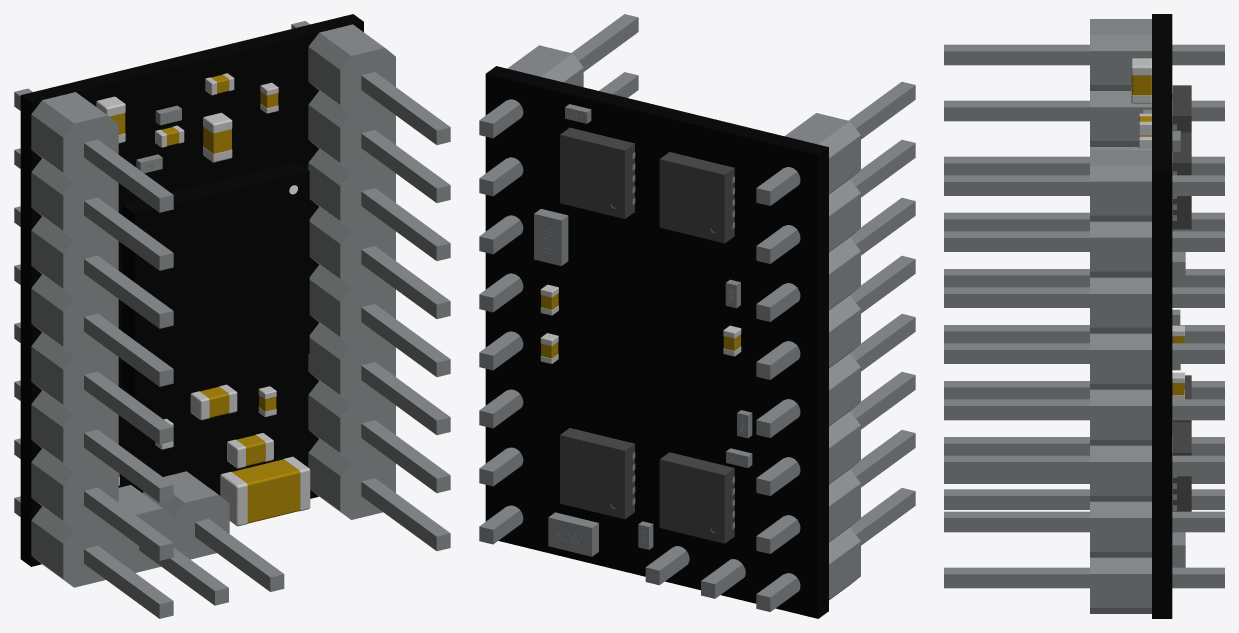
Rendered from tmc5160-pro.glb.
3 renders of one model, left to right at view 1: azimuth 30°, elevation 25°; view 2: azimuth 150°, elevation 25°; view 3: azimuth 270°, elevation 25°, orthographic. The views are drawn at different scales.
Parts seen in each view (by area): view 1: material_1, material_0; view 2: material_0, material_1; view 3: material_1, material_0.
Part boxes in pixels (x1,y1,x2,y2): material_1: [14, 21, 450, 618]; material_0: [20, 14, 363, 566]; material_0: [485, 66, 828, 618]; material_1: [479, 14, 915, 611]; material_1: [944, 19, 1224, 613]; material_0: [1152, 14, 1191, 618].
Bounding box in the file's own units: 0.0152 × 0.0203 × 0.0115.
Materials: 2 (2 with a texture image).
